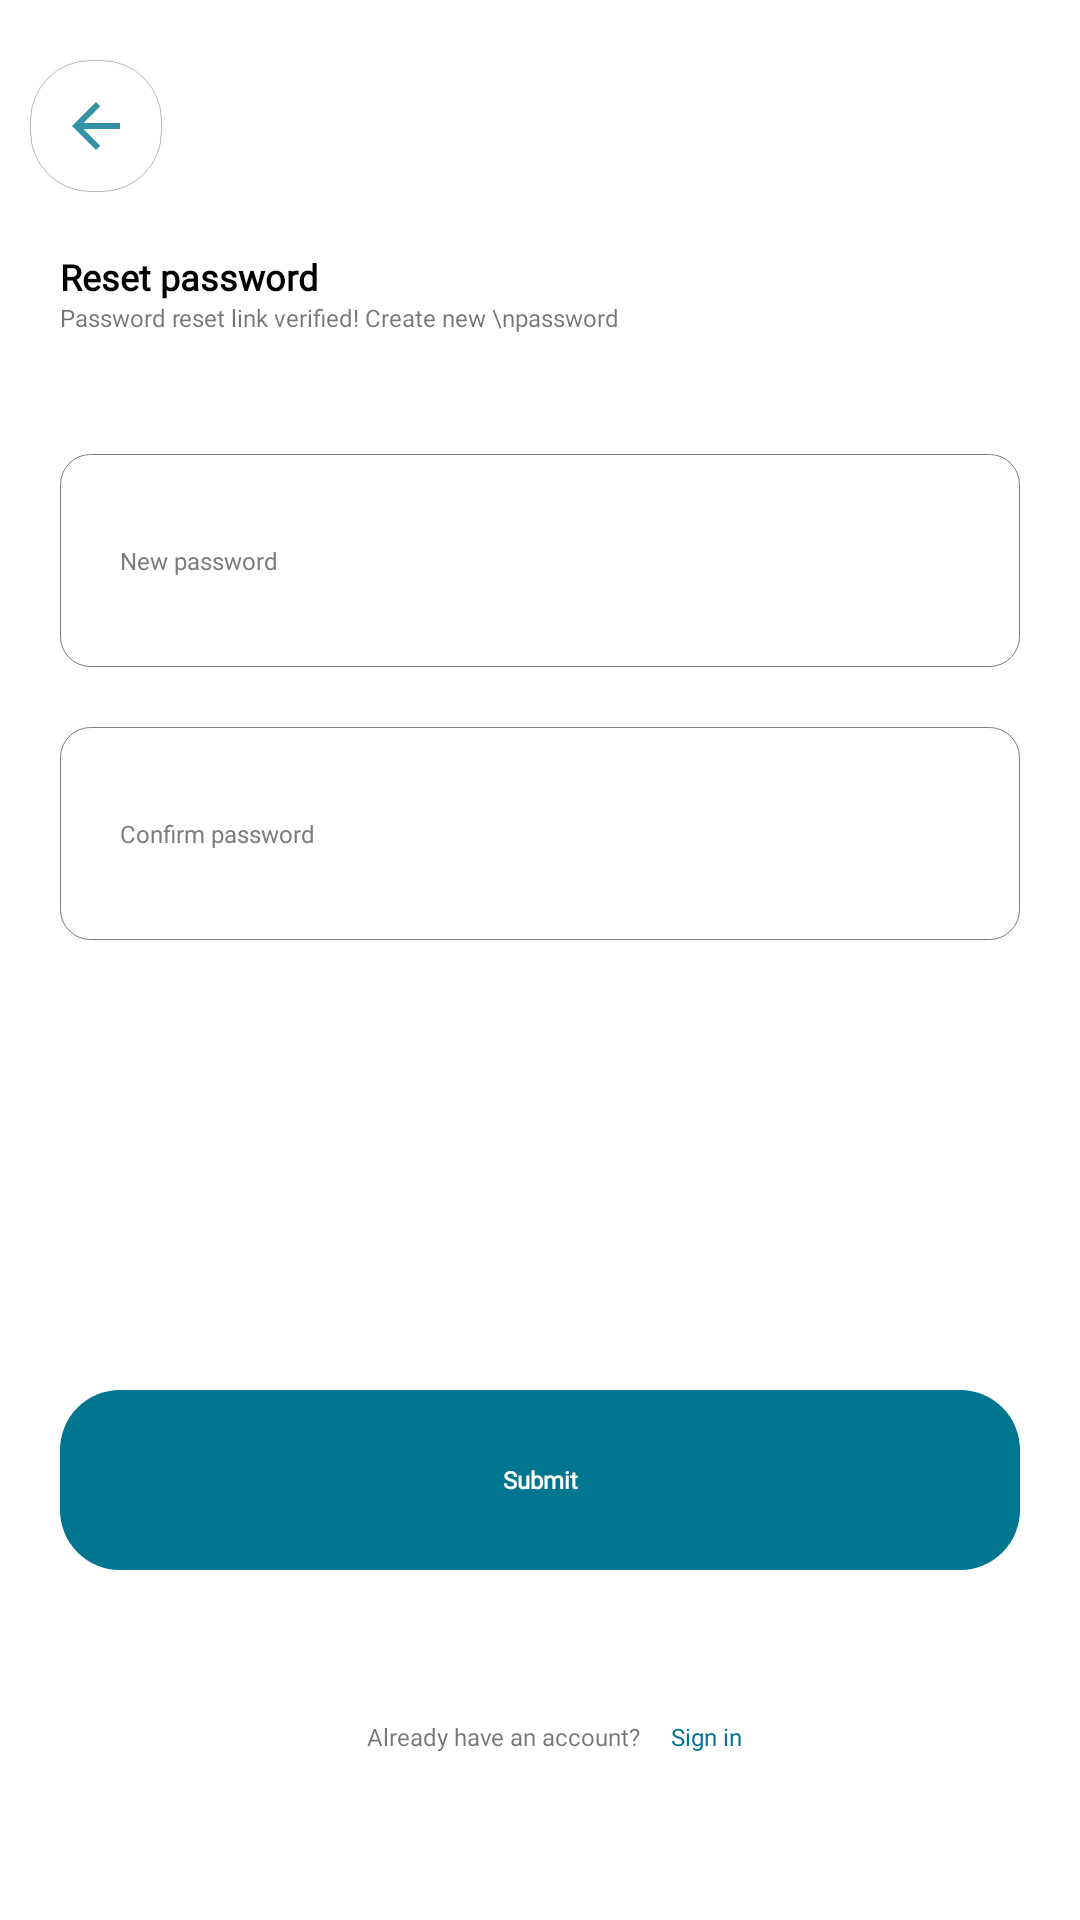

Icons on this 1080*1920 Android screen, each with the point to tap as [x,y]:
arrow back: [96,126]
